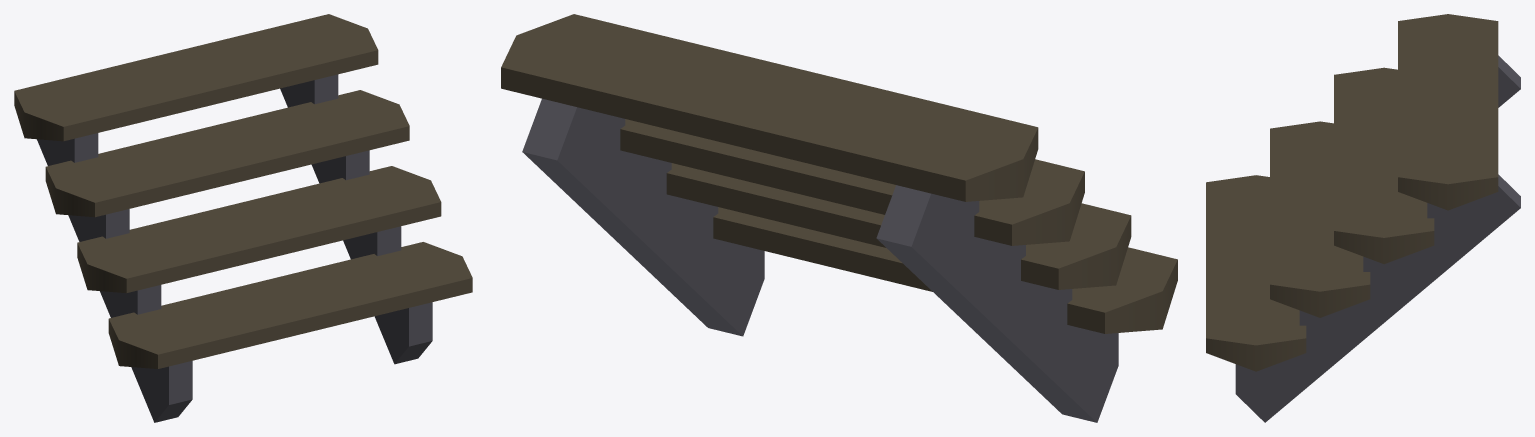
File: LPSciFi_ShortSingleStairs.fbx
3 views of the same model, side by side, from view 1: azimuth 30°, elevation 25°; view 2: azimuth 150°, elevation 25°; view 3: azimuth 270°, elevation 25° (orthographic). The views are drawn at different scales.
Visible parts, largest first — view 1: ShortSingleStairs; view 2: ShortSingleStairs; view 3: ShortSingleStairs.
Boxes of the visible parts, left/top/right/bottom form: ShortSingleStairs: left=14, top=14, right=472, bottom=422; ShortSingleStairs: left=501, top=14, right=1177, bottom=422; ShortSingleStairs: left=1206, top=14, right=1520, bottom=422.
Size of the model in its own units: 135 by 95.88 by 106.
